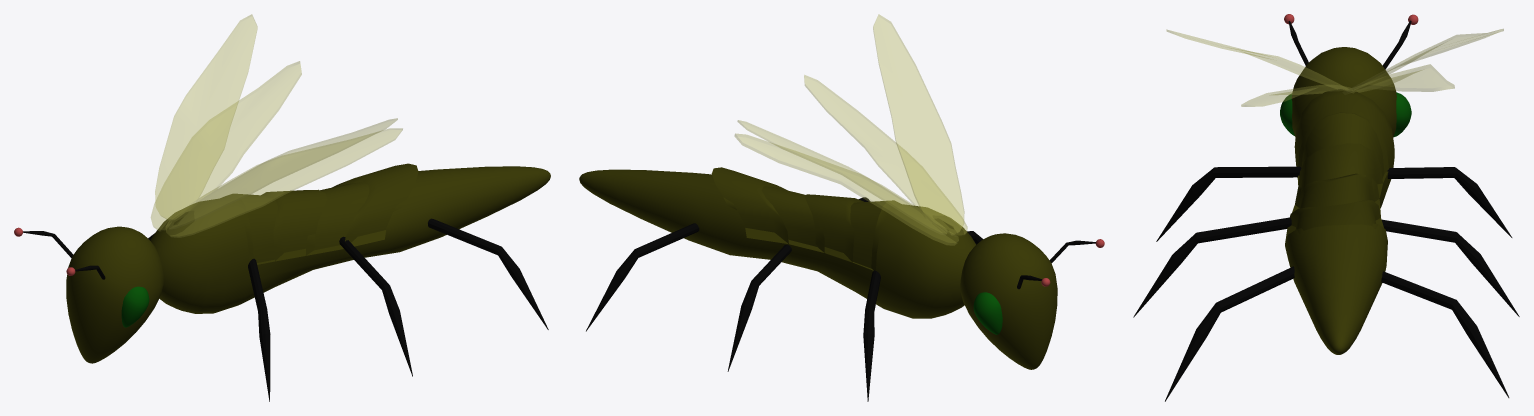
Rendered from fungus gnat .fbx.
The picture shows the model from 3 angles, left to right: view 1: azimuth 30°, elevation 25°; view 2: azimuth 150°, elevation 25°; view 3: azimuth 270°, elevation 25°; orthographic projection. The views are drawn at different scales.
Parts seen in each view (by area): view 1: pSphere2, polySurface4, pSphere1, polySurface1, polySurface2, polySurface3, pCylinder6, pCylinder4, pCylinder5, pSphere3; view 2: pSphere2, polySurface3, pSphere1, polySurface2, polySurface1, polySurface4, pCylinder3, pCylinder2, pCylinder1, pSphere4; view 3: pSphere2, pSphere1, pCylinder4, pCylinder6, pCylinder3, pCylinder5, pCylinder2, polySurface1, pCylinder1, polySurface3, polySurface4, polySurface2 (+2 smaller).
Part boxes in pixels (box(x1,y1,x2,y2)): pSphere2: box(150, 163, 550, 313); polySurface4: box(155, 14, 257, 219); pSphere1: box(66, 226, 163, 363); polySurface1: box(151, 61, 301, 231); polySurface2: box(166, 128, 402, 237); polySurface3: box(168, 118, 397, 228); pCylinder6: box(428, 218, 548, 329); pCylinder4: box(339, 236, 412, 376); pCylinder5: box(248, 258, 270, 401); pSphere3: box(121, 286, 149, 327); pSphere2: box(579, 167, 975, 318); polySurface3: box(873, 14, 964, 233); pSphere1: box(960, 233, 1057, 369); polySurface2: box(804, 75, 967, 235); polySurface1: box(734, 133, 958, 245); polySurface4: box(737, 120, 947, 235); pCylinder3: box(586, 223, 699, 331); pCylinder2: box(727, 245, 791, 371); pCylinder1: box(863, 270, 880, 401); pSphere4: box(973, 292, 1002, 334); pSphere2: box(1285, 89, 1394, 354); pSphere1: box(1291, 47, 1396, 137); pCylinder4: box(1133, 217, 1291, 317); pCylinder6: box(1165, 266, 1294, 401); pCylinder3: box(1381, 271, 1509, 397); pCylinder5: box(1156, 166, 1301, 241); pCylinder2: box(1382, 219, 1519, 316); polySurface1: box(1343, 64, 1454, 94); pCylinder1: box(1387, 167, 1512, 237); polySurface3: box(1166, 29, 1354, 92); polySurface4: box(1347, 29, 1503, 91); polySurface2: box(1241, 84, 1353, 106).
Size of the model in its own units: 1.8 by 0.8474 by 1.03.
